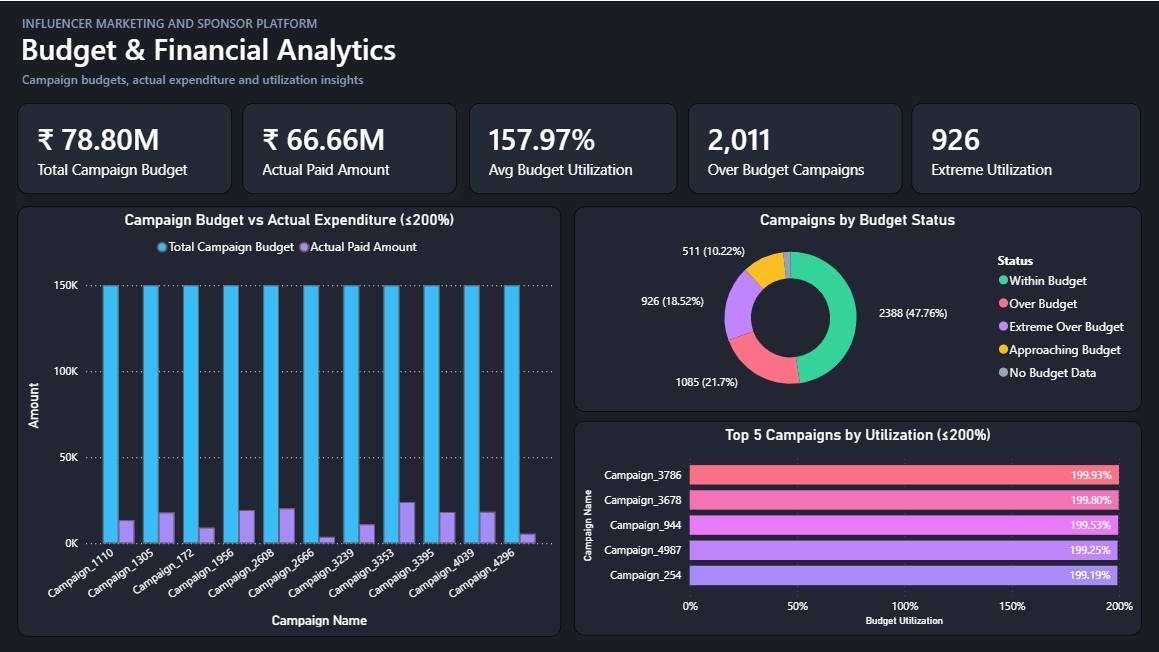

What the dashboard file says about the page in this screenshot:
{"tool":"powerbi","page":{"name":"Budget & Financial Analytics","canvas":[1280,720],"ordinal":2},"visuals":[{"type":"textbox","box":[0,25,461.7,53.3],"z":0},{"type":"textbox","box":[21.7,10,376.7,28.3],"z":1000},{"type":"textbox","box":[21.7,70,421.7,28.3],"z":2000},{"type":"cardVisual","fields":{"Data":["Measure.Total Campaign Budget"]},"box":[21.7,111.7,235,100],"z":3000},{"type":"cardVisual","fields":{"Data":["Measure.Actual Paid Amount"]},"box":[268.3,111.7,235,100],"z":4000},{"type":"cardVisual","fields":{"Data":["Measure.Over Budget Campaigns"]},"box":[756.7,111.7,235,100],"z":5000},{"type":"cardVisual","fields":{"Data":["Measure.Average Budget Utilization"]},"box":[516.7,111.7,228.3,100],"z":6000},{"type":"cardVisual","fields":{"Data":["Measure.Extreme Utilization Campaigns"]},"box":[1003.3,111.7,251.7,100],"z":7000},{"type":"clusteredColumnChart","title":"Campaign Budget vs Actual Expenditure (≤200%)","fields":{"Category":["dim_campaigns.name"],"Y":["Measure.Total Campaign Budget","Measure.Actual Paid Amount"]},"box":[21.7,225,596.7,471.7],"z":8000},{"type":"clusteredBarChart","title":"Top 5 Campaigns by Utilization (≤200%)","fields":{"Category":["dim_campaigns.name"],"Y":["Measure.Budget Utilization (Chart)"]},"box":[631.7,461.7,623.3,235],"z":9000},{"type":"donutChart","title":"Campaigns by Budget Status","fields":{"Category":["Budget Status Summary.Status"],"Y":["Sum(Budget Status Summary.Campaign Count)"]},"box":[631.7,225,623.3,225],"z":10000}]}

Visuals, with their boxes in screenshot pixels (x1, y1, x2, y2), scaled from the page's 1280x720 canvas onto the 1159x652 screenshot:
textbox: {"left": 0, "top": 23, "right": 418, "bottom": 71}
textbox: {"left": 20, "top": 9, "right": 361, "bottom": 35}
textbox: {"left": 20, "top": 63, "right": 401, "bottom": 89}
cardVisual - Measure.Total Campaign Budget: {"left": 20, "top": 101, "right": 232, "bottom": 192}
cardVisual - Measure.Actual Paid Amount: {"left": 243, "top": 101, "right": 456, "bottom": 192}
cardVisual - Measure.Over Budget Campaigns: {"left": 685, "top": 101, "right": 898, "bottom": 192}
cardVisual - Measure.Average Budget Utilization: {"left": 468, "top": 101, "right": 675, "bottom": 192}
cardVisual - Measure.Extreme Utilization Campaigns: {"left": 908, "top": 101, "right": 1136, "bottom": 192}
"Campaign Budget vs Actual Expenditure (≤200%)" clusteredColumnChart: {"left": 20, "top": 204, "right": 560, "bottom": 631}
"Top 5 Campaigns by Utilization (≤200%)" clusteredBarChart: {"left": 572, "top": 418, "right": 1136, "bottom": 631}
"Campaigns by Budget Status" donutChart: {"left": 572, "top": 204, "right": 1136, "bottom": 408}
